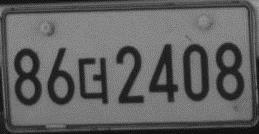0: (180, 43, 210, 101)
2: (113, 44, 146, 105)
4: (147, 42, 180, 103)
6: (46, 47, 76, 106)
8: (215, 41, 245, 102), (13, 46, 41, 106)
더: (76, 55, 110, 105)
